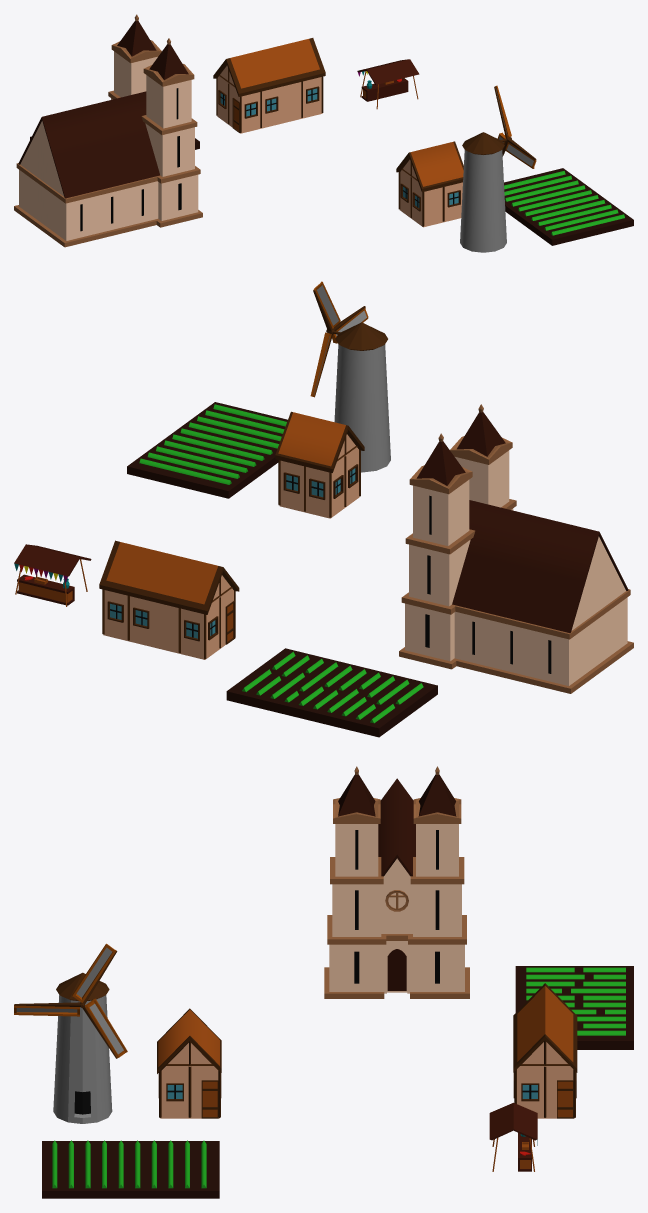
File: Koy.Updated.fbx
3 renders of one model, top to bottom at view 1: azimuth 30°, elevation 25°; view 2: azimuth 150°, elevation 25°; view 3: azimuth 270°, elevation 25°, orthographic. The views are drawn at different scales.
Visible parts, largest first — view 1: Klise, Box046, Ev.2, Cylinder001, Plane001, Box027, Box040, Ev.1, Box034, Değilmen, Pazar30, Pazar31; view 2: Klise, Box046, Plane002, Ev.2, Plane001, Cylinder001, Box027, Ev.1, Box040, Box029, Box034, Değilmen (+2 smaller); view 3: Box046, Klise, Plane001, Cylinder001, Ev.2, Plane002, Box029, Ev.1, Box027, Değilmen, Box034, Box040 (+2 smaller).
Boxes of the visible parts, x1,y1,x2,y2 form: Klise: (14,14,202,247); Box046: (19,51,198,240); Ev.2: (213,38,325,132); Cylinder001: (460,150,506,252); Plane001: (504,168,633,245); Box027: (504,171,624,235); Box040: (217,65,322,133); Ev.1: (396,141,463,226); Box034: (399,159,462,227); Değilmen: (462,85,536,168); Pazar30: (357,59,419,84); Pazar31: (361,78,408,101); Klise: (399,404,633,693); Box046: (405,450,627,685); Plane002: (226,648,437,737); Ev.2: (99,540,239,659); Plane001: (127,402,287,498); Cylinder001: (334,344,390,472); Box027: (139,404,286,484); Ev.1: (275,411,364,517); Box040: (103,575,233,659); Box029: (242,651,423,723); Box034: (279,434,359,518); Değilmen: (310,281,387,397); Box046: (329,824,464,993); Klise: (324,766,469,998); Plane001: (42,1141,219,1198); Cylinder001: (53,995,112,1123); Ev.2: (513,983,577,1118); Plane002: (515,966,633,1049); Box029: (526,967,625,1035); Ev.1: (157,1008,221,1118); Box027: (52,1140,206,1188); Değilmen: (14,943,127,1114); Box034: (160,1043,219,1118); Box040: (517,1042,574,1118).
Bounding box in the file's own units: 111 × 42.16 × 105.
